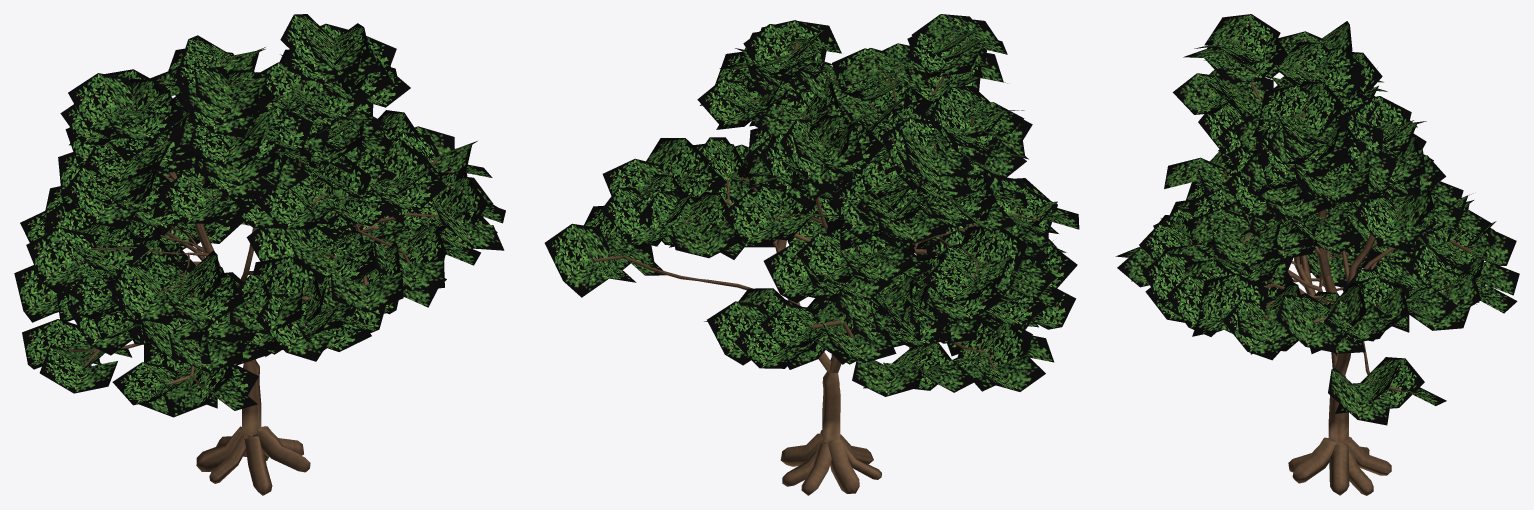
Rendered from parampara-tree-real.glb.
3 renders of one model, left to right at view 1: azimuth 30°, elevation 25°; view 2: azimuth 150°, elevation 25°; view 3: azimuth 270°, elevation 25°, orthographic. The views are drawn at different scales.
Parts seen in each view (by area): view 1: tree; view 2: tree; view 3: tree.
Part boxes in pixels (x1,y1,x2,y2): tree: [14, 14, 505, 495]; tree: [544, 14, 1079, 495]; tree: [1115, 14, 1519, 495].
Size of the model in its own units: 11.79 by 10.71 by 9.32.
Materials: 1 (1 with a texture image).
